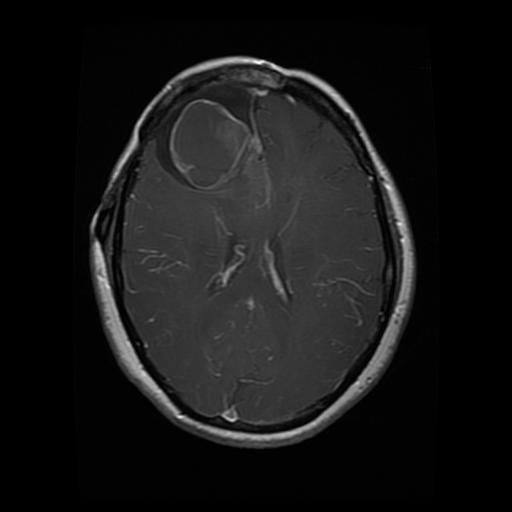Gliomia_tumour: (154, 82, 276, 209)
